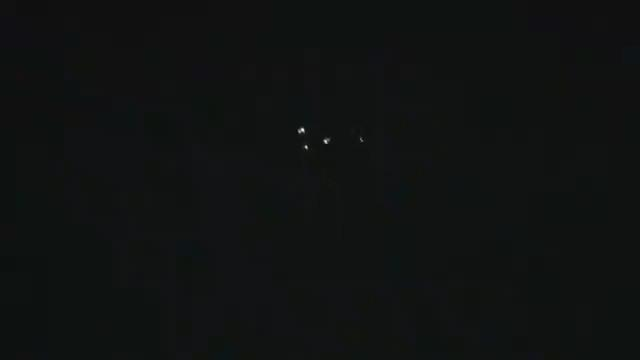Plane: (279, 120, 335, 158)
